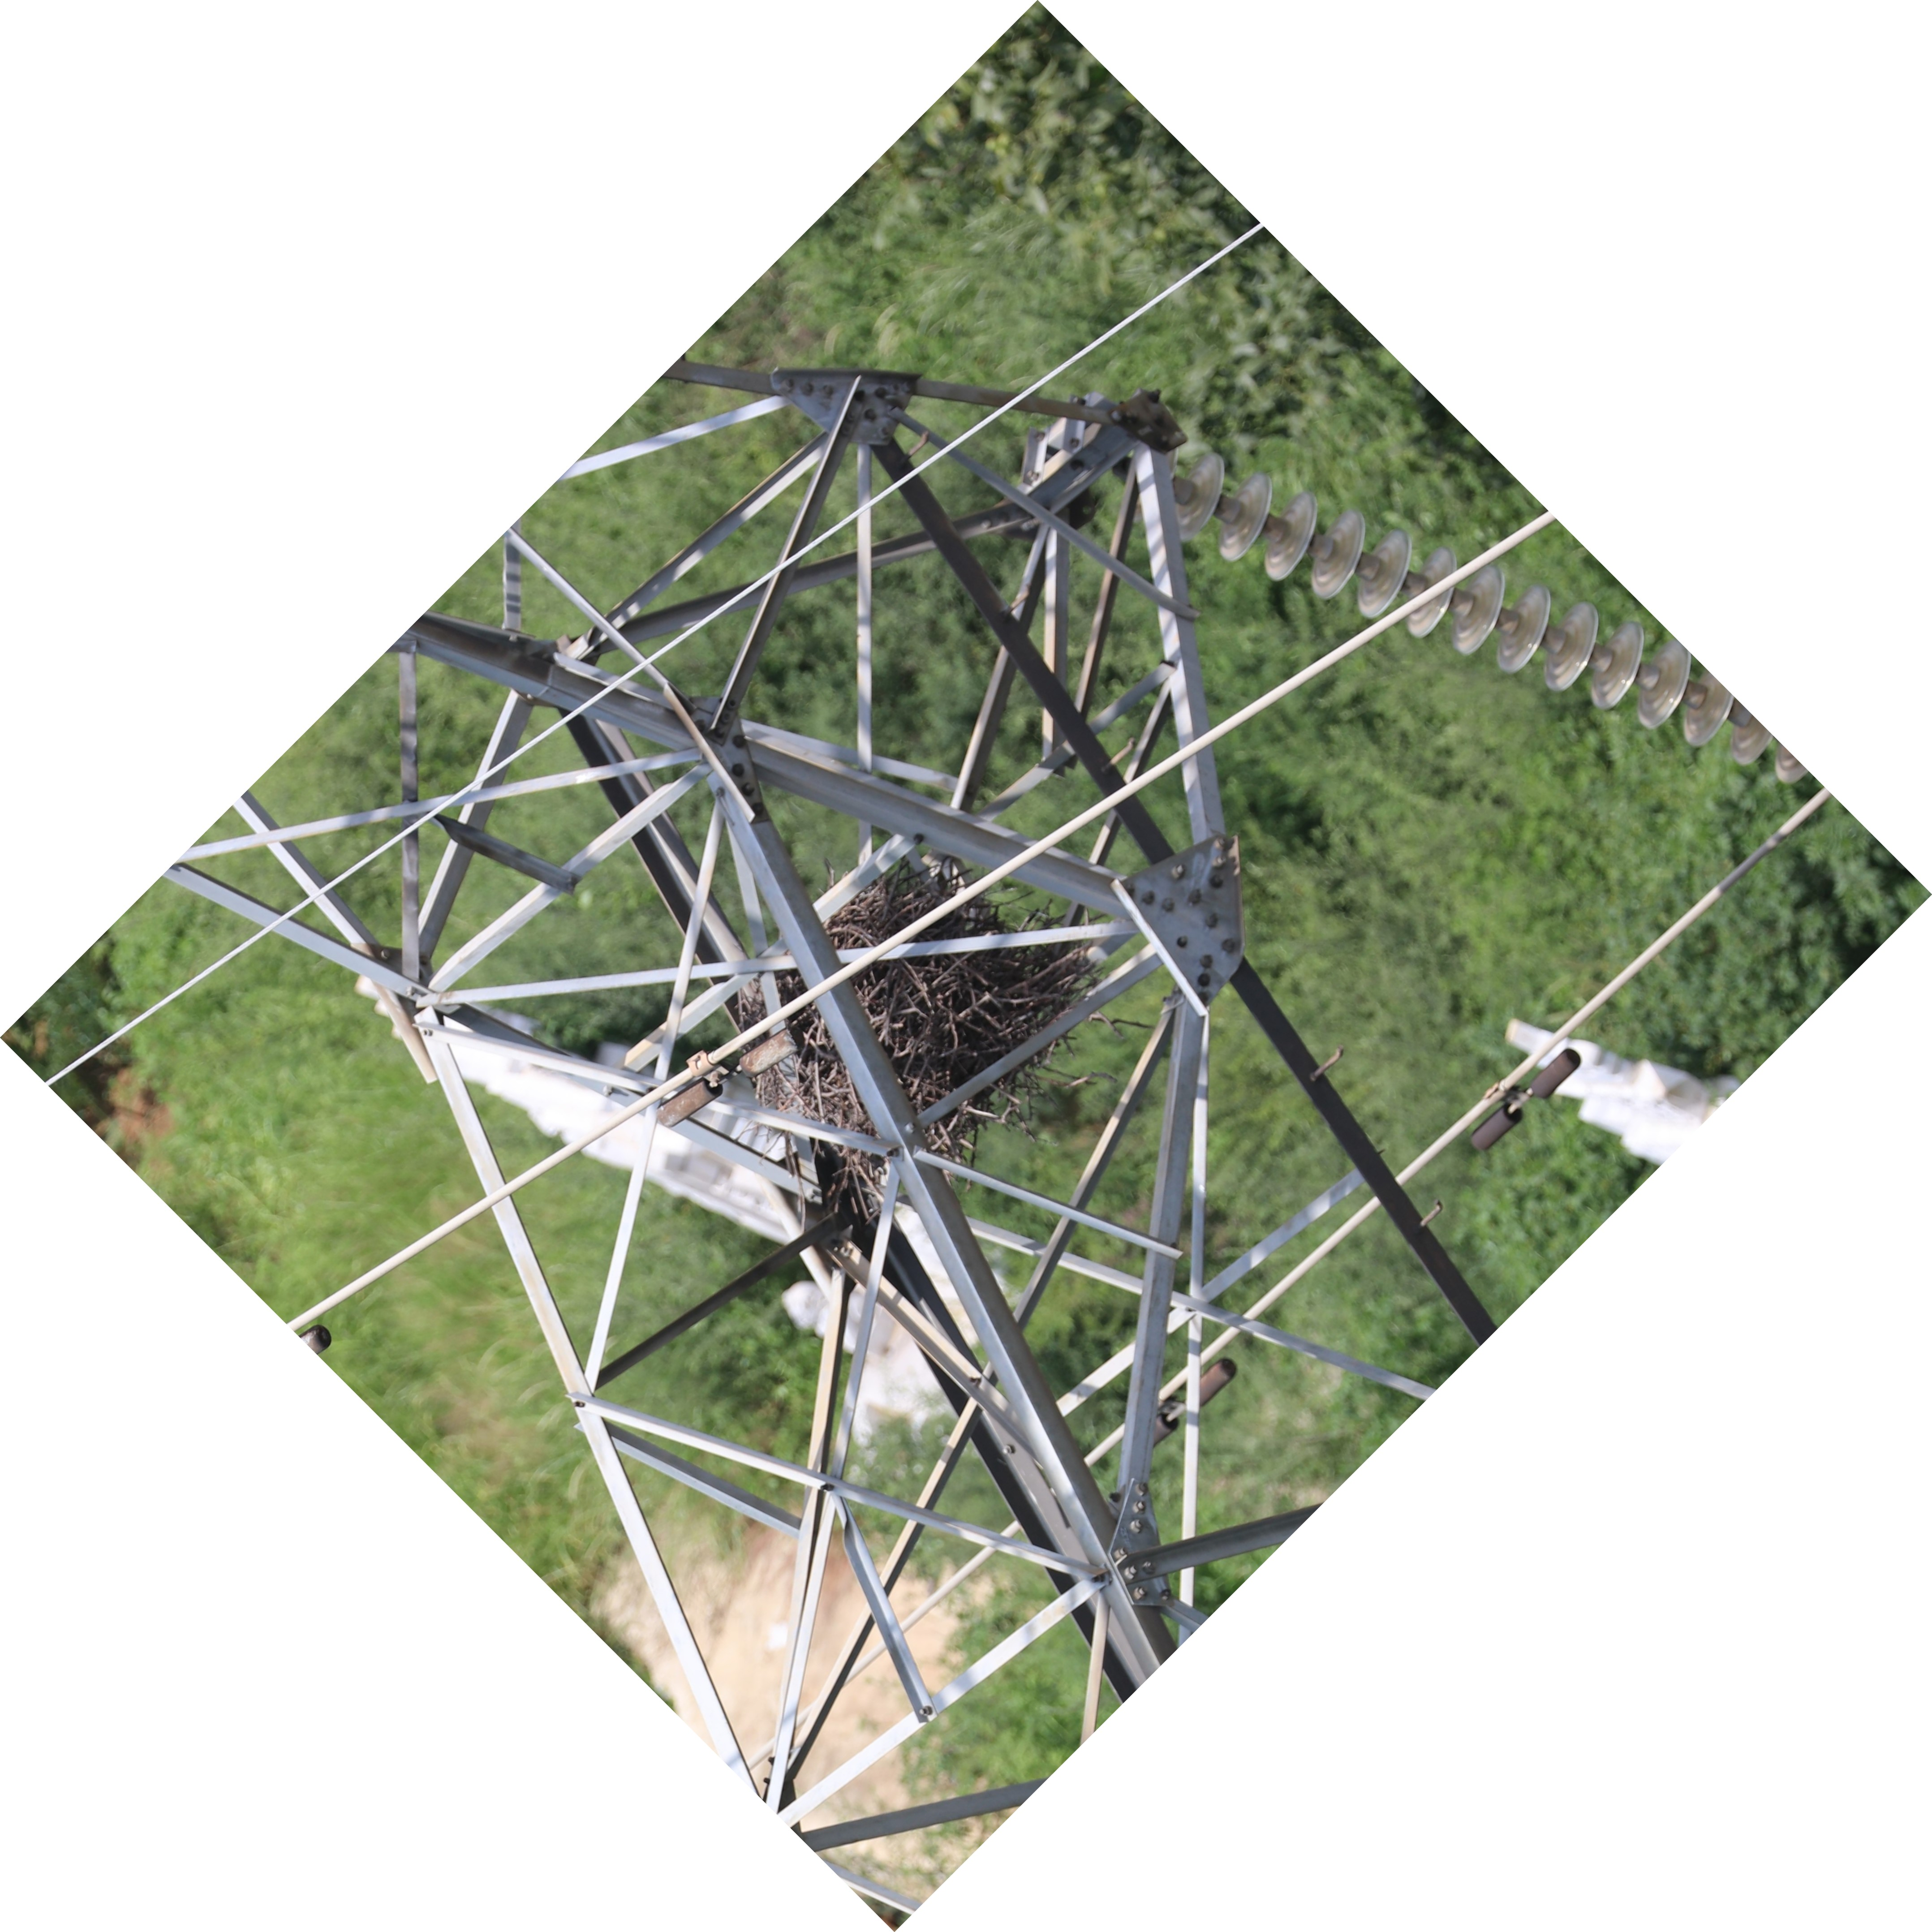niaowo: (747, 856, 1108, 1200)
